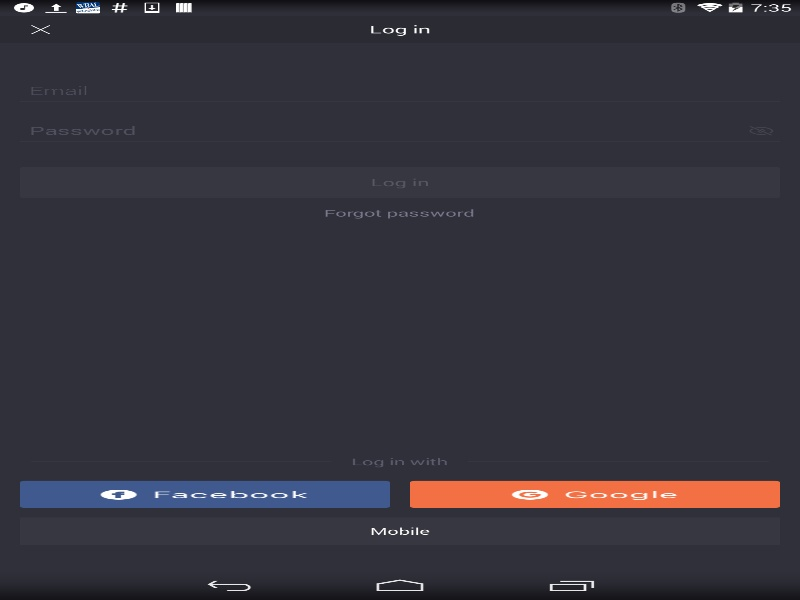Button: (409, 480, 780, 508), (20, 480, 390, 508), (324, 198, 475, 228), (10, 15, 69, 43)
Input: (20, 81, 749, 105), (20, 121, 709, 145)
